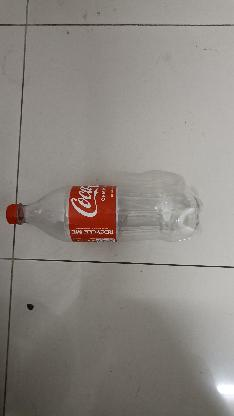Plastic Bottle: (4, 168, 218, 246)
